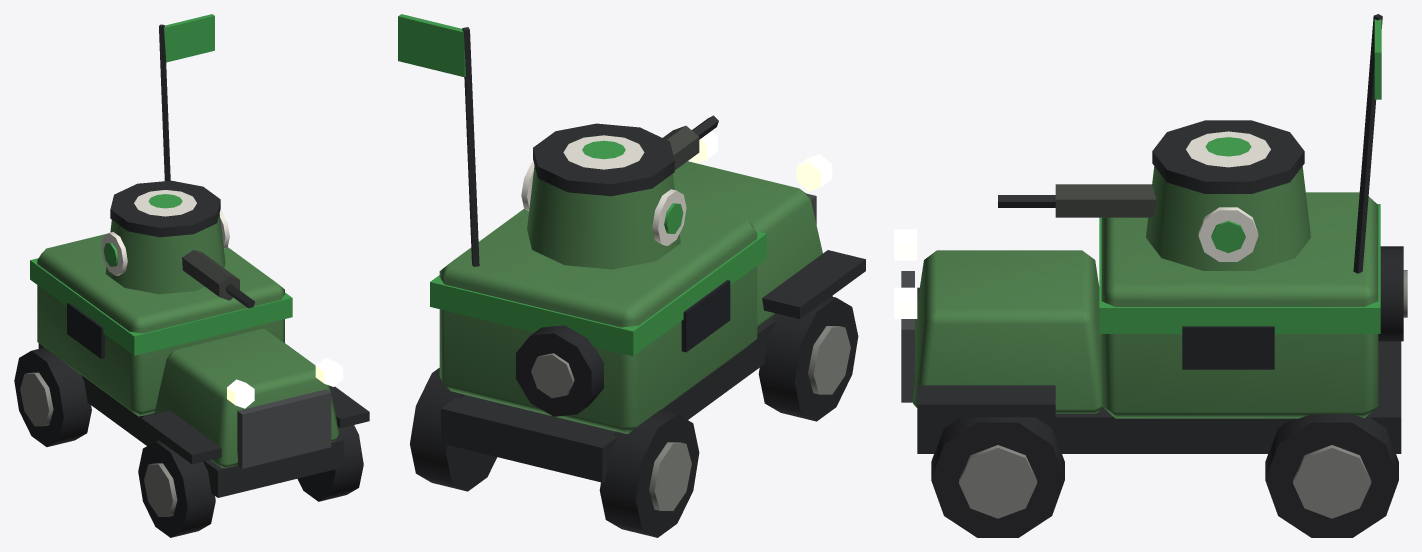
The model's file is assault_dl5_green.glb.
3 renders of one model, left to right at view 1: azimuth 30°, elevation 25°; view 2: azimuth 150°, elevation 25°; view 3: azimuth 270°, elevation 25°, orthographic. The views are drawn at different scales.
Visible parts, largest first — view 1: assault_dl5_green; view 2: assault_dl5_green; view 3: assault_dl5_green.
Boxes of the visible parts, x1,y1,x2,y2 form: assault_dl5_green: (14,14,369,537); assault_dl5_green: (398,14,865,537); assault_dl5_green: (894,14,1407,537).
Size of the model in its own units: 0.265 by 0.4774 by 0.4455.
2 materials, 1 textured.
